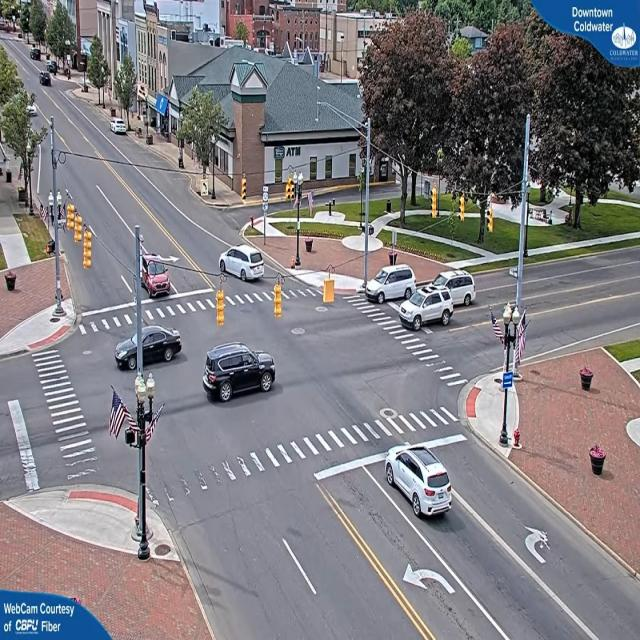car: (386, 444, 454, 520), (203, 342, 279, 406), (115, 326, 183, 370), (400, 285, 453, 329), (369, 266, 416, 304), (221, 244, 266, 283), (434, 271, 478, 309), (139, 258, 172, 298)
